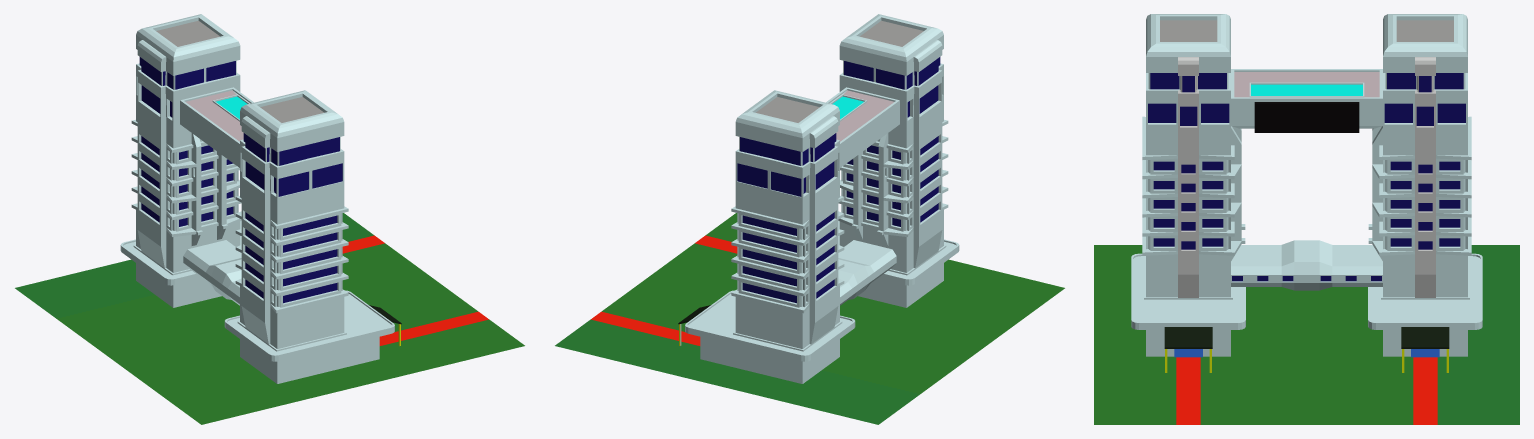
The model's file is 5 Motel.fbx.
3 renders of one model, left to right at view 1: azimuth 30°, elevation 25°; view 2: azimuth 150°, elevation 25°; view 3: azimuth 270°, elevation 25°, orthographic. The views are drawn at different scales.
Parts seen in each view (by area): view 1: Cube, Plane; view 2: Cube, Plane; view 3: Cube, Plane.
Boxes of the visible parts, x1,y1,x2,y2 form: Cube: (120,14,401,383); Plane: (15,213,524,424); Cube: (678,14,959,383); Plane: (555,213,1064,424); Cube: (1131,14,1482,372); Plane: (1094,245,1519,424).
Bounding box in the file's own units: 1002 × 751 × 1002.
